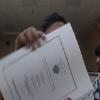notebook: (0, 21, 95, 99)
